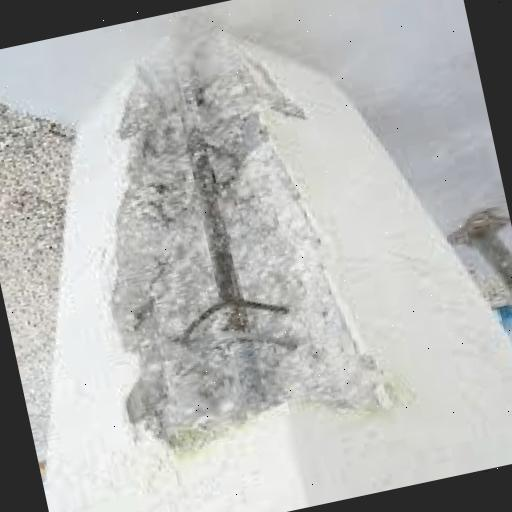spalling: (107, 24, 382, 450)
